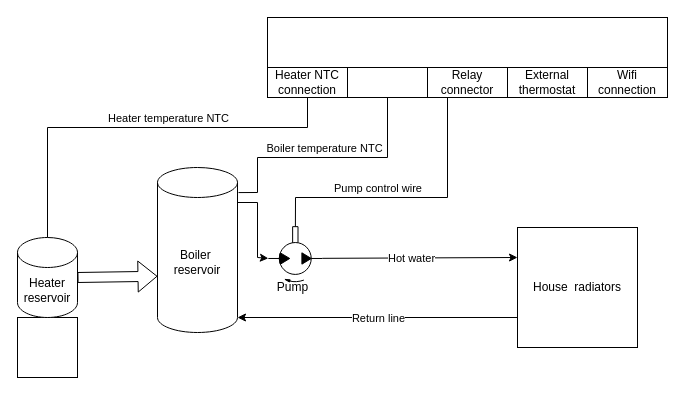
Image size: 685x395. Some labels were removed from this diagram. Here are the shapes that lost their labels. From the top down, the centre of each, then its label:
At (467,42): "HeaterControl".
At (387,82): "Puffer NTC connection".
At (47,347): "Heat source".
